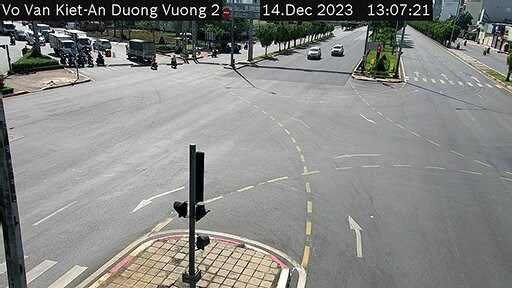car: (330, 41, 343, 57), (305, 46, 319, 58)
truck: (128, 38, 156, 63)
